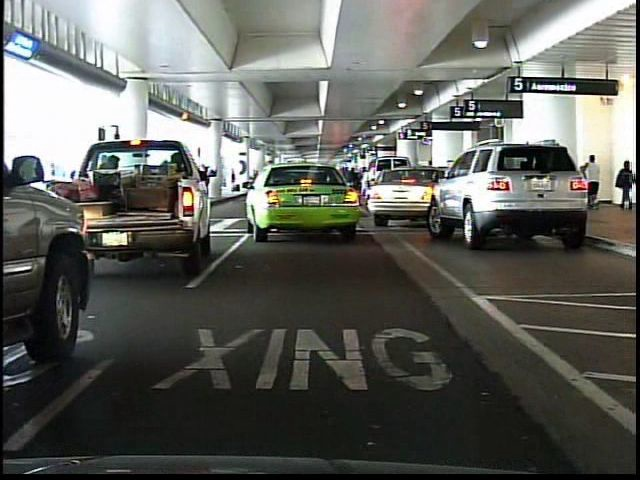person: (586, 151, 606, 213), (616, 158, 636, 215)
